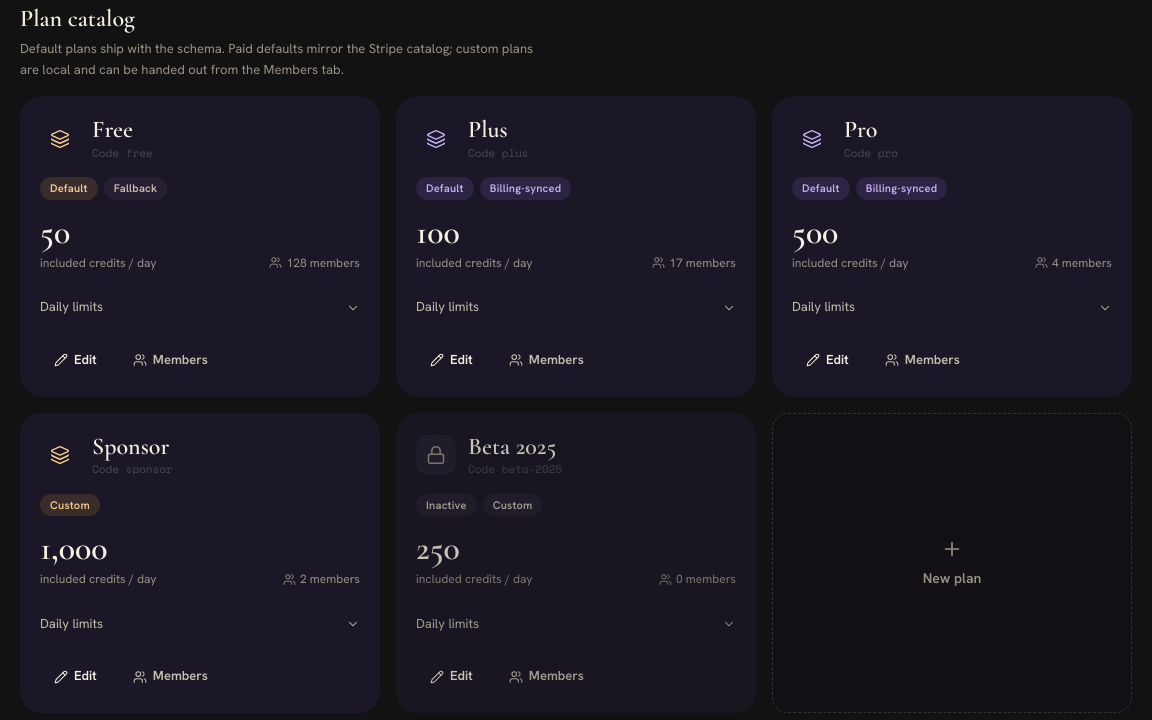
it: AdminMembershipPage › edits a billing-synced plan without touching its synced facts
The image size is (1152, 720).
(page scrolled)
Click the button "Edit" below "4 members": (827, 360) [792,344,863,376]
(page scrolled)
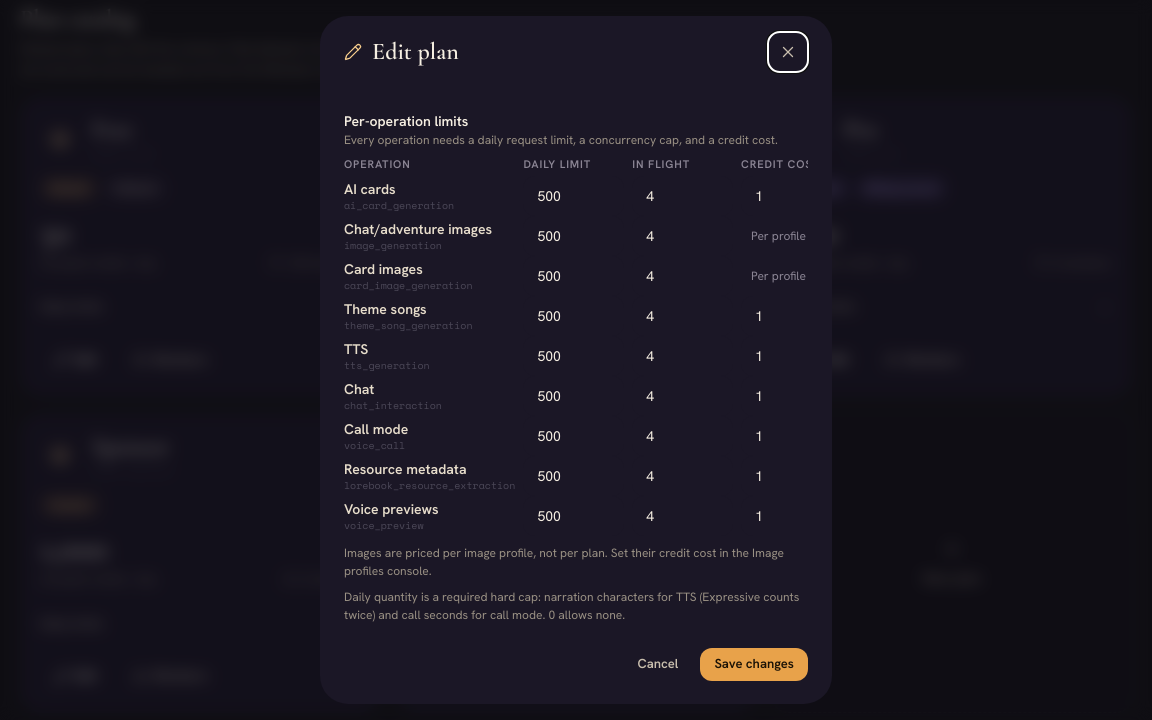
Replace the text in the number field named "Chat · Daily limit" with "900": (574, 396) [523,376,624,416]
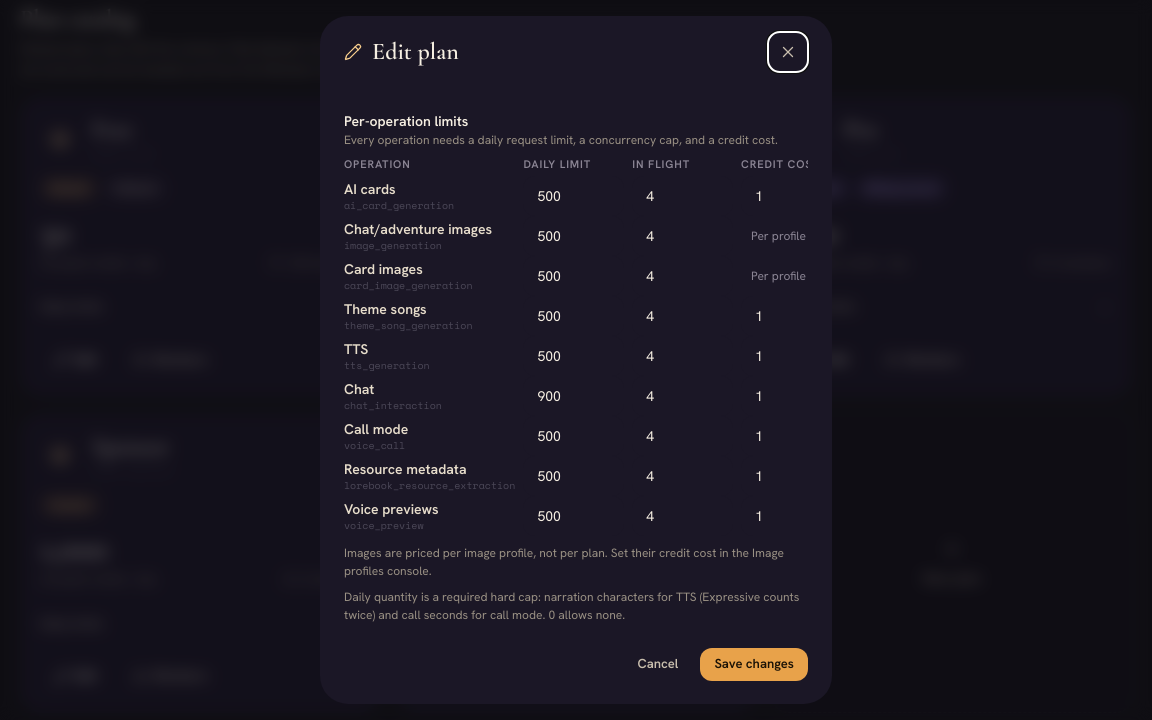
Click the button "Save changes": (754, 665) [700,648,808,681]
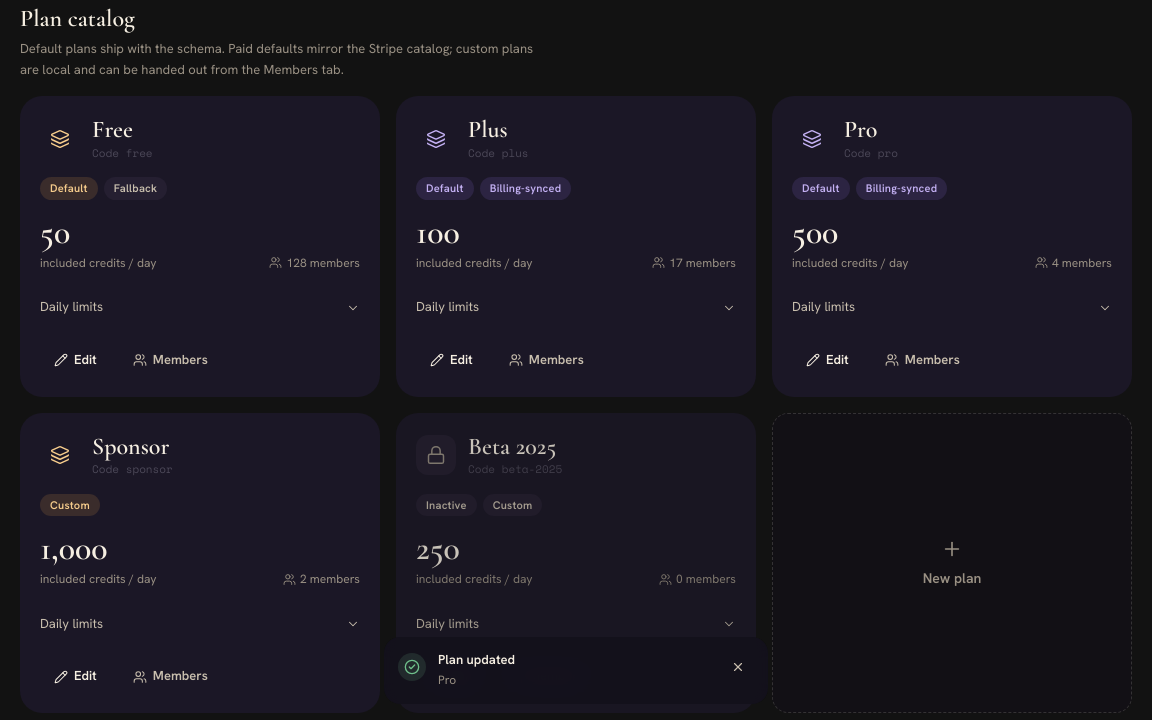
Now the text "Plan updated" is shown, box [438,651,515,668]
